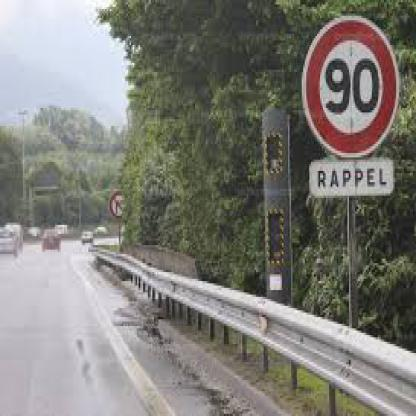Speed Limit 90: (303, 16, 398, 158)
